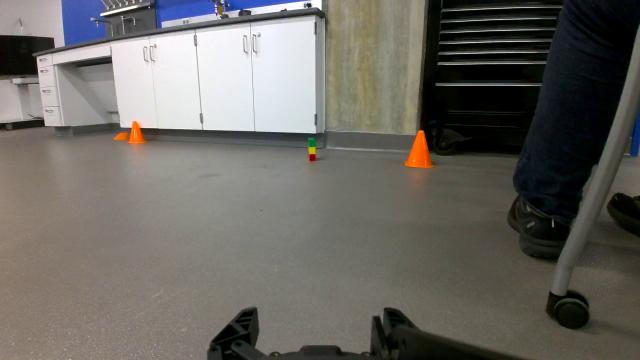lego: (306, 134, 320, 166)
